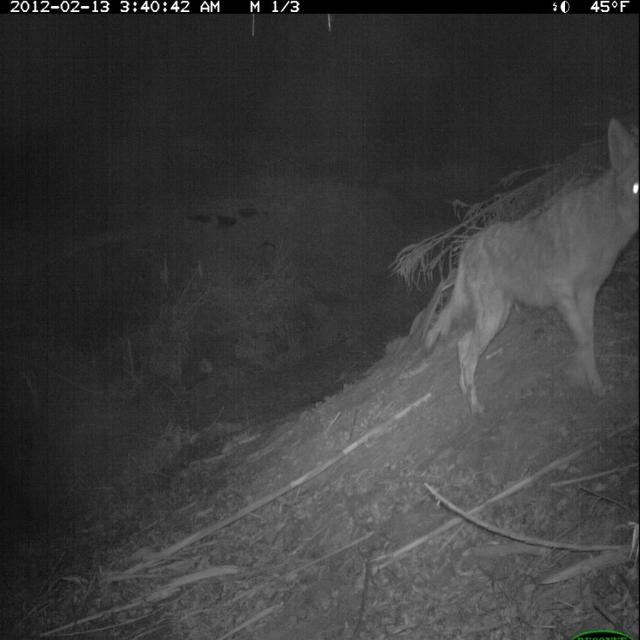coyote: (423, 113, 638, 419)
